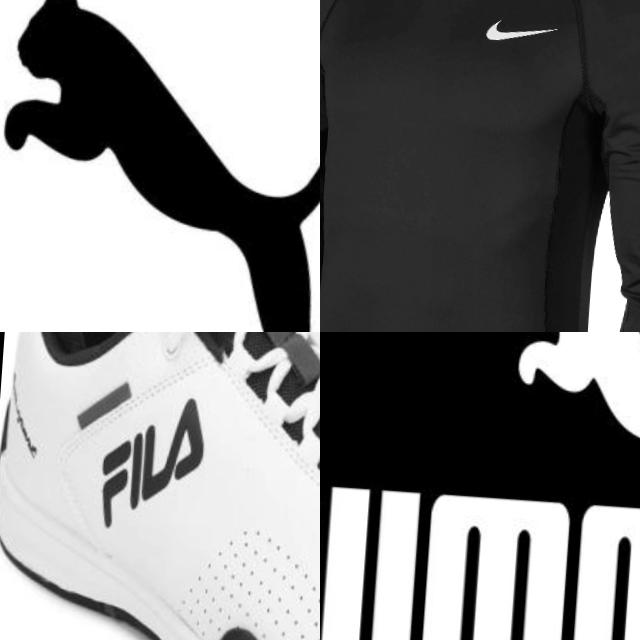FILA_original: (92, 386, 215, 538)
NIKE_original: (452, 0, 581, 75)
PUMA_original: (0, 0, 320, 332), (320, 332, 640, 640)
